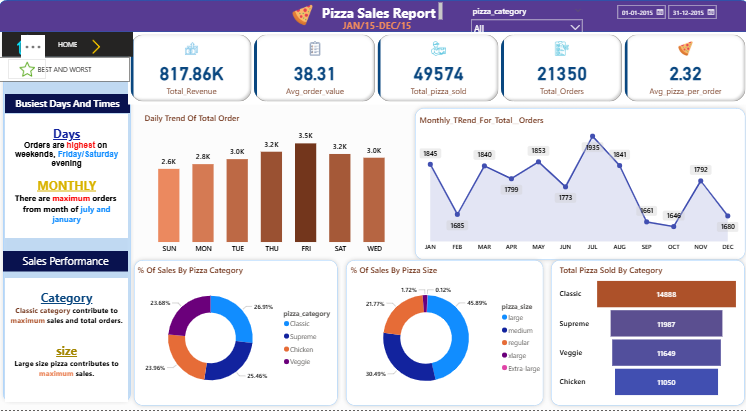

The dashboard page shown, as its layout file describes it:
{"tool":"powerbi","page":{"name":"HOME","canvas":[1500,820],"ordinal":0},"visuals":[{"type":"shape","box":[0,55.4,271.4,755.4],"z":0},{"type":"textbox","box":[12.5,187.5,250,37.5],"z":1000},{"type":"cardVisual","fields":{"Data":["pizza_sales.Total_Revenue","pizza_sales.Avg_order_value","pizza_sales.Total_pizza_sold","pizza_sales.Total_Orders","pizza_sales.Avg_pizza_per_order"]},"box":[258.9,64.3,1241.1,144.6],"z":2000},{"type":"shape","box":[0,0,1500,64.3],"z":3000},{"type":"textbox","box":[639.3,0,251.8,44.6],"z":4000},{"type":"textbox","box":[682,32,168,44],"z":5000},{"type":"image","box":[548.2,3.6,117.9,51.8],"z":6000},{"type":"columnChart","title":"Daily Trend Of Total Order","fields":{"Category":["pizza_sales.Order_Day"],"Y":["pizza_sales.Total_Orders"]},"box":[285.7,225,519.6,291.1],"z":7000},{"type":"shape","box":[823.2,208.9,676.8,319.6],"z":8000},{"type":"areaChart","title":"Monthly_TRend_For_Total__Orders","fields":{"Y":["pizza_sales.Total_Orders"],"Category":["pizza_sales.Order_Month"]},"box":[835.7,228.6,648.2,283.9],"z":9000},{"type":"shape","box":[262.5,512.5,423.2,307.1],"z":10000},{"type":"shape","box":[685.7,512.5,410.7,307.1],"z":11000},{"type":"shape","box":[1096.4,512.5,403.6,307.1],"z":12000},{"type":"donutChart","title":"% Of Sales By Pizza Category","fields":{"Category":["pizza_sales.pizza_category"],"Y":["pizza_sales.Total_Revenue"]},"box":[271.4,528.6,410.7,275],"z":13000},{"type":"donutChart","title":"% Of Sales By Pizza Size","fields":{"Y":["pizza_sales.Total_Revenue"],"Category":["pizza_sales.pizza_size"]},"box":[698.2,528.6,398.2,275],"z":14000},{"type":"funnel","title":"Total Pizza Sold By Category","fields":{"Y":["pizza_sales.Total_pizza_sold"],"Category":["pizza_sales.pizza_category"]},"box":[1116.1,528.6,367.9,275],"z":15000},{"type":"textbox","box":[12.5,228.6,246.4,248.2],"z":16000},{"type":"textbox","box":[8.9,501.8,250,41.1],"z":17000},{"type":"textbox","box":[12.5,555.4,246.4,248.2],"z":18000},{"type":"slicer","fields":{"Values":["pizza_sales.pizza_category"]},"box":[933.9,5.4,242.9,58.9],"z":19000},{"type":"slicer","fields":{"Values":["pizza_sales.order_date"]},"box":[1225,0,242.9,64.3],"z":20000},{"type":"pageNavigator","box":[5.4,64.3,262.5,50],"z":21000},{"type":"pageNavigator","box":[0,114.3,262.5,50],"z":22000},{"type":"image","box":[157.1,75,73.2,39.3],"z":23000},{"type":"image","box":[0,64.3,114.3,51.8],"z":24000},{"type":"image","box":[17.9,117.9,76.8,41.1],"z":25000}]}

Visuals, with their boxes on the page's 1500x820 design canvas (x1, y1, x2, y2). These are canvas units, not pixel positions in the 746x411 screenshot, which may show the page scaled, cropped or inside an application window:
shape: [0, 55, 271, 811]
textbox: [12, 188, 262, 225]
cardVisual - pizza_sales.Total_Revenue x pizza_sales.Avg_order_value: [259, 64, 1500, 209]
shape: [0, 0, 1500, 64]
textbox: [639, 0, 891, 45]
textbox: [682, 32, 850, 76]
image: [548, 4, 666, 55]
"Daily Trend Of Total Order" columnChart: [286, 225, 805, 516]
shape: [823, 209, 1500, 528]
"Monthly_TRend_For_Total__Orders" areaChart: [836, 229, 1484, 512]
shape: [262, 512, 686, 820]
shape: [686, 512, 1096, 820]
shape: [1096, 512, 1500, 820]
"% Of Sales By Pizza Category" donutChart: [271, 529, 682, 804]
"% Of Sales By Pizza Size" donutChart: [698, 529, 1096, 804]
"Total Pizza Sold By Category" funnel: [1116, 529, 1484, 804]
textbox: [12, 229, 259, 477]
textbox: [9, 502, 259, 543]
textbox: [12, 555, 259, 804]
slicer - pizza_sales.pizza_category: [934, 5, 1177, 64]
slicer - pizza_sales.order_date: [1225, 0, 1468, 64]
pageNavigator: [5, 64, 268, 114]
pageNavigator: [0, 114, 262, 164]
image: [157, 75, 230, 114]
image: [0, 64, 114, 116]
image: [18, 118, 95, 159]
